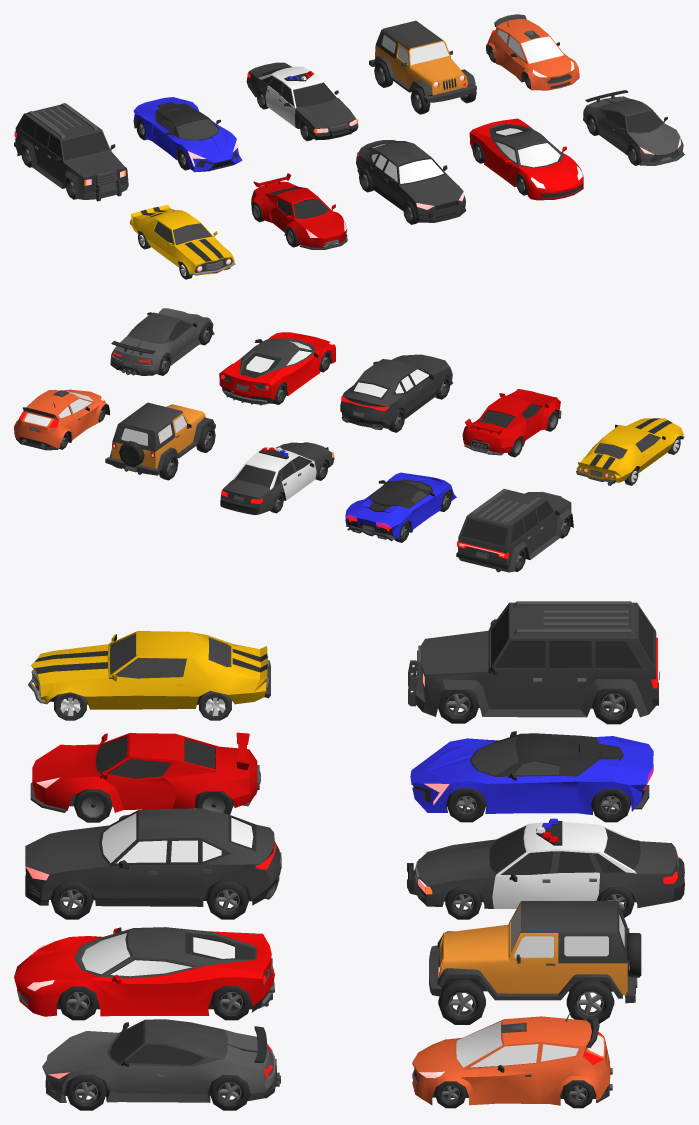
Rendered from low_poly_cars.glb.
3 views of the same model, one above another, from view 1: azimuth 30°, elevation 25°; view 2: azimuth 150°, elevation 25°; view 3: azimuth 270°, elevation 25° (orthographic). The views are drawn at different scales.
Visible parts, largest first — view 1: Cube.034, Cube.074, Cube.072, Cube.070, Cube.082, Cube.053, Cube.029, Cube.055, Cube, Cube.015, Cube.061, Cylinder.056 (+1 smaller); view 2: Cube.034, Cube.074, Cube.072, Cube.082, Cube.070, Cube, Cube.029, Cube.055, Cube.015, Cube.053, Cube.061, Cylinder.049; view 3: Cube.034, Cube.074, Cube.072, Cube.082, Cube.070, Cube, Cube.029, Cube.055, Cube.015, Cube.053, Cube.061, Cylinder.056 (+16 smaller).
Boxes of the visible parts, box(x1,y1,x2,y2) form: Cube.034: box(15, 103, 128, 199); Cube.074: box(356, 140, 466, 222); Cube.072: box(469, 118, 583, 200); Cube.070: box(133, 97, 242, 172); Cube.082: box(246, 62, 358, 140); Cube.053: box(486, 18, 579, 90); Cube.029: box(583, 96, 684, 165); Cube.055: box(375, 20, 467, 95); Cube: box(130, 205, 234, 275); Cube.015: box(251, 181, 347, 247); Cube.061: box(373, 55, 475, 96); Cylinder.056: box(410, 84, 476, 114); Cube.034: box(458, 489, 573, 572); Cube.074: box(340, 354, 452, 428); Cube.072: box(219, 332, 335, 403); Cube.082: box(220, 442, 334, 514); Cube.070: box(345, 472, 456, 539); Cube: box(576, 418, 683, 482); Cube.029: box(110, 308, 214, 375); Cube.055: box(111, 402, 205, 468); Cube.015: box(462, 389, 560, 453); Cube.053: box(14, 389, 109, 448); Cube.061: box(109, 417, 214, 470); Cylinder.049: box(119, 441, 144, 467); Cube.034: box(414, 602, 657, 717); Cube.074: box(25, 808, 280, 906); Cube.072: box(14, 927, 274, 1016); Cube.082: box(412, 821, 684, 908); Cube.070: box(410, 733, 653, 814); Cube: box(31, 631, 267, 709); Cube.029: box(42, 1019, 273, 1102); Cube.055: box(439, 901, 627, 995); Cube.015: box(32, 733, 257, 812); Cube.053: box(412, 1016, 610, 1105); Cube.061: box(437, 931, 622, 1000); Cylinder.056: box(438, 958, 485, 1024).
Bounding box in the file's own units: 20.66 × 1.95 × 13.46.
3 materials, 3 textured.
